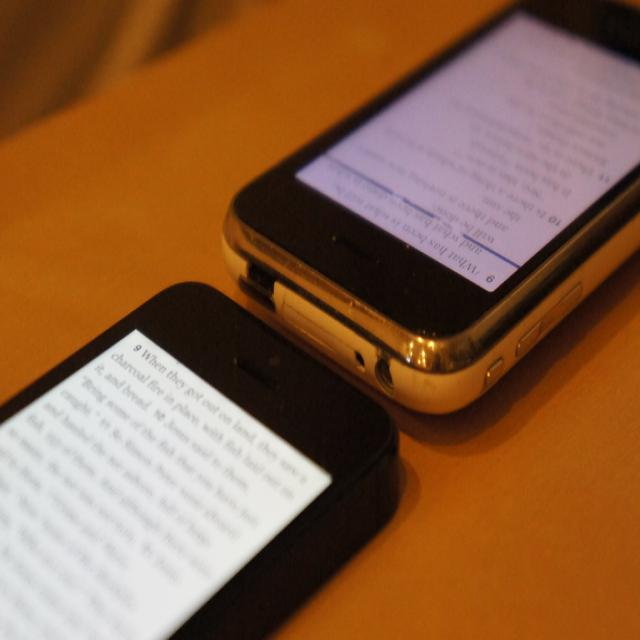Mobile-phone: (203, 38, 640, 416), (0, 278, 398, 639)
